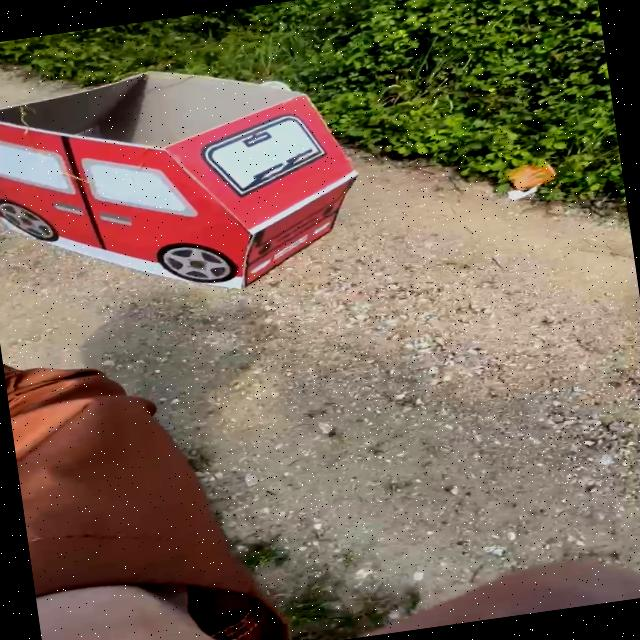red_car: (0, 30, 423, 335)
